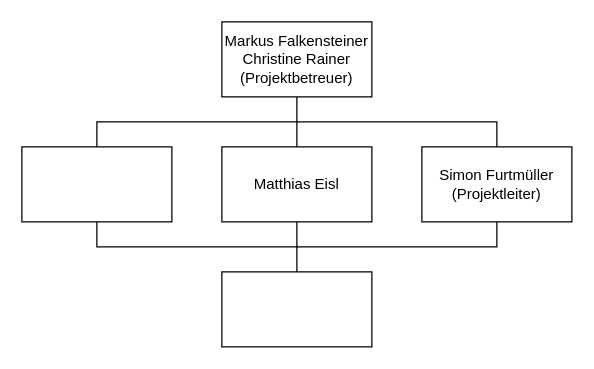
The diagram is 594 pixels wide and 369 high, and some of its shapes have lost their labels. The centre of each missing label's shape, as x and y in pixels:
"Alexander Lux" belongs at pixel 96 184.
"TVB (Kooperationspartner)" belongs at pixel 296 309.
